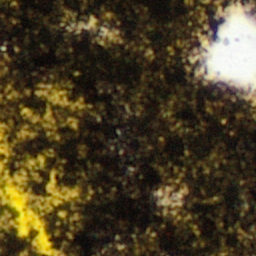cement_matrix: (0, 0, 255, 255), (0, 201, 41, 255), (159, 191, 180, 205), (52, 94, 62, 100), (87, 21, 92, 25), (106, 32, 109, 35)
cracks: (0, 126, 74, 255), (53, 95, 61, 99), (88, 22, 91, 24), (107, 33, 108, 34)
gravel_crushed_stones: (194, 1, 255, 103), (160, 192, 179, 204)
